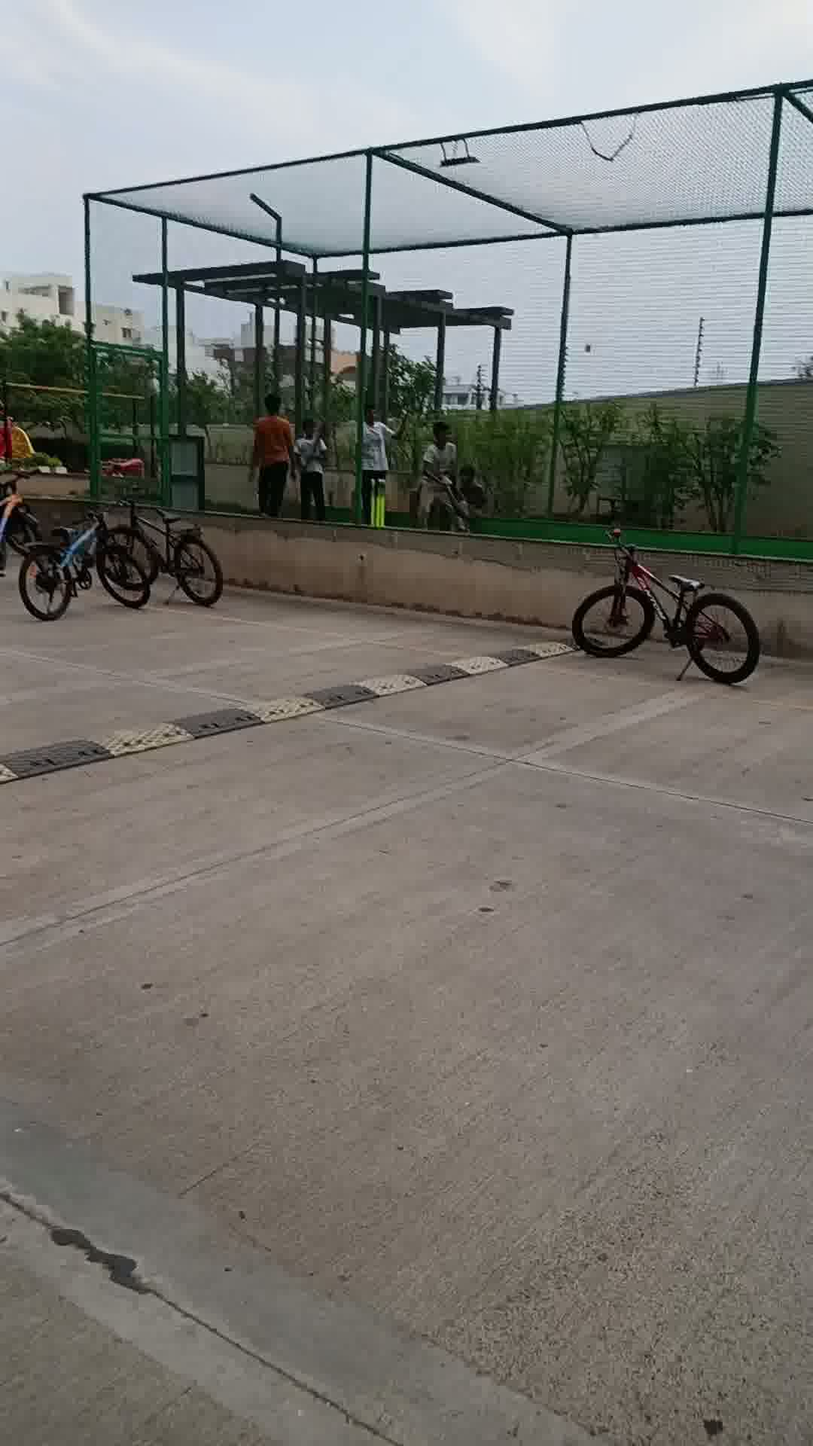bicycle: (558, 490, 771, 720), (88, 473, 250, 606), (9, 510, 171, 626)
person: (236, 353, 302, 524), (355, 385, 411, 544), (421, 406, 466, 550), (294, 402, 337, 524), (448, 456, 491, 518)
